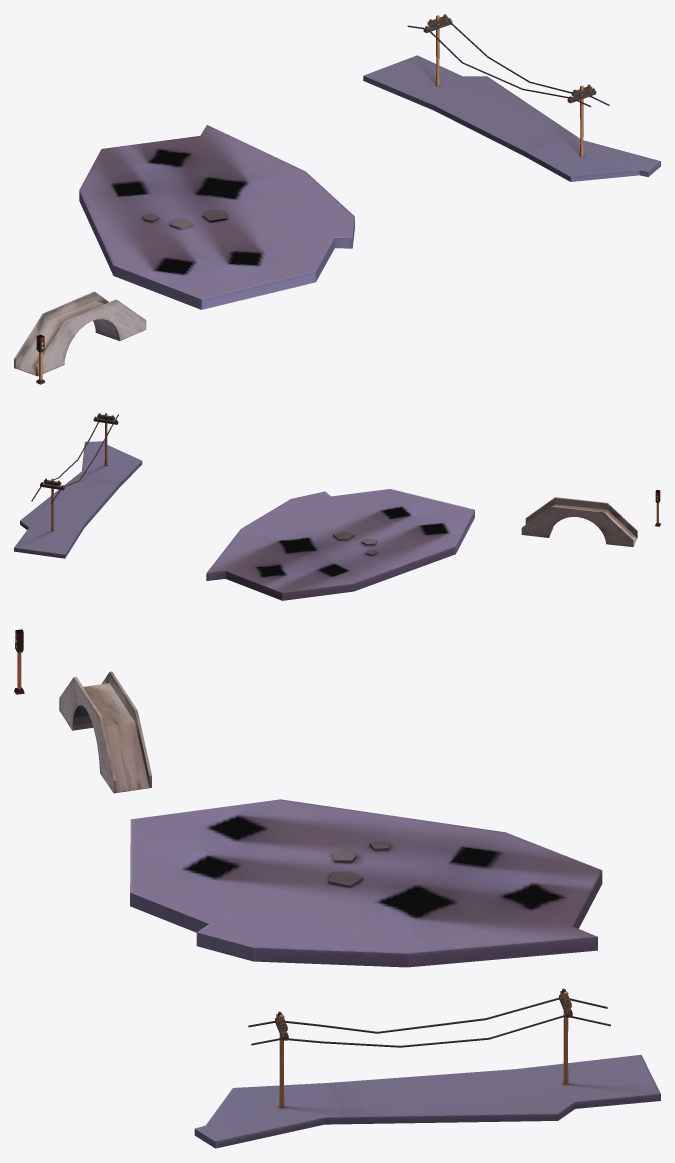
Rendered from LIGHT_BLUEPART.glb.
The picture shows the model from 3 angles, top to bottom: view 1: azimuth 30°, elevation 25°; view 2: azimuth 150°, elevation 25°; view 3: azimuth 270°, elevation 25°; orthographic projection. The views are drawn at different scales.
Visible parts, largest first — view 1: BLUE-PART; view 2: BLUE-PART; view 3: BLUE-PART.
Part boxes in pixels (x1,y1,x2,y2): BLUE-PART: [14, 14, 660, 384]; BLUE-PART: [14, 413, 660, 600]; BLUE-PART: [14, 629, 660, 1148].
Bounding box in the file's own units: 27.96 × 2.9 × 17.06.
Materials: 1 (1 with a texture image).
